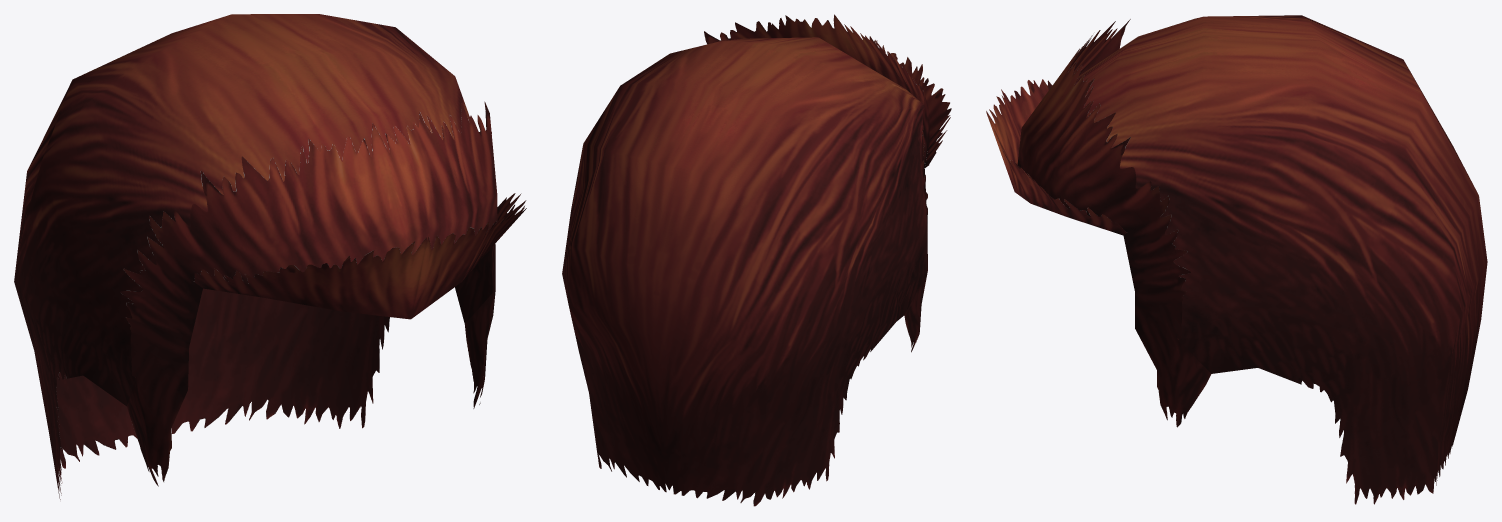
File: M_jichufaxing02.FBX
3 renders of one model, left to right at view 1: azimuth 30°, elevation 25°; view 2: azimuth 150°, elevation 25°; view 3: azimuth 270°, elevation 25°, orthographic. The views are drawn at different scales.
Visible parts, largest first — view 1: M_jichufaxing02; view 2: M_jichufaxing02; view 3: M_jichufaxing02.
Part boxes in pixels (x1,y1,x2,y2): M_jichufaxing02: (14, 14, 526, 499); M_jichufaxing02: (562, 14, 951, 506); M_jichufaxing02: (986, 15, 1487, 504).
Bounding box in the file's own units: 17.77 × 20.32 × 22.18.
Materials: 1 (1 with a texture image).
